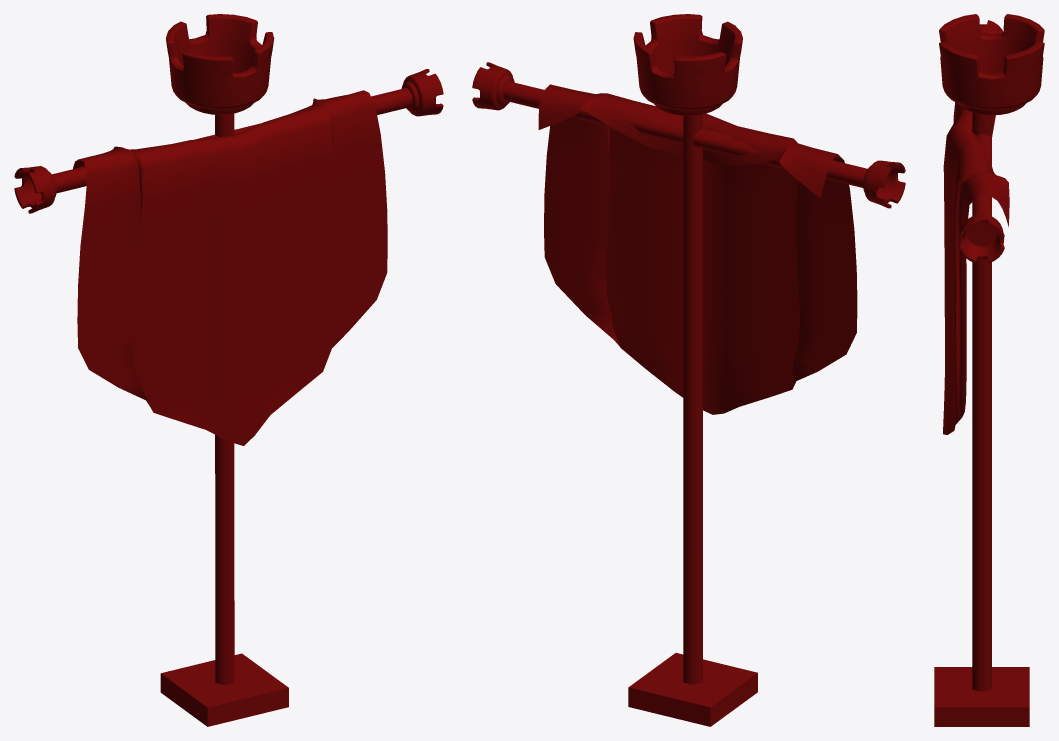
File: SM_BandeiraVermelha.fbx
The picture shows the model from 3 angles, left to right: view 1: azimuth 30°, elevation 25°; view 2: azimuth 150°, elevation 25°; view 3: azimuth 270°, elevation 25°; orthographic projection.
Parts seen in each view (by area): view 1: SM_BandeiraVermelha; view 2: SM_BandeiraVermelha; view 3: SM_BandeiraVermelha.
Part boxes in pixels (x1,y1,x2,y2): SM_BandeiraVermelha: [14, 14, 443, 726]; SM_BandeiraVermelha: [472, 14, 905, 726]; SM_BandeiraVermelha: [934, 14, 1044, 726].
Bounding box in the file's own units: 9.53 × 14.74 × 2.2.
